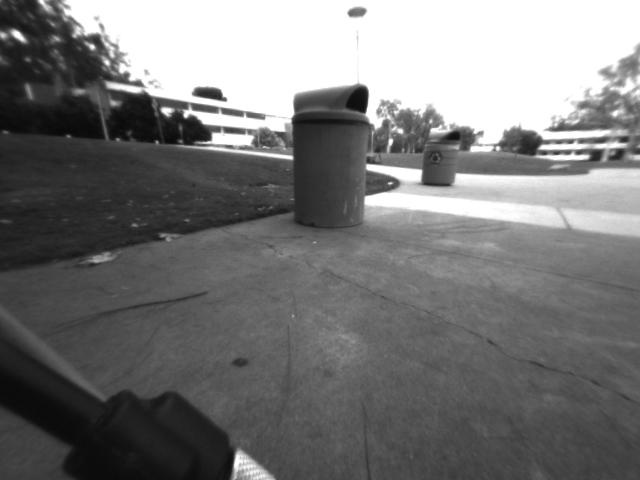trashcan: (290, 81, 379, 234)
